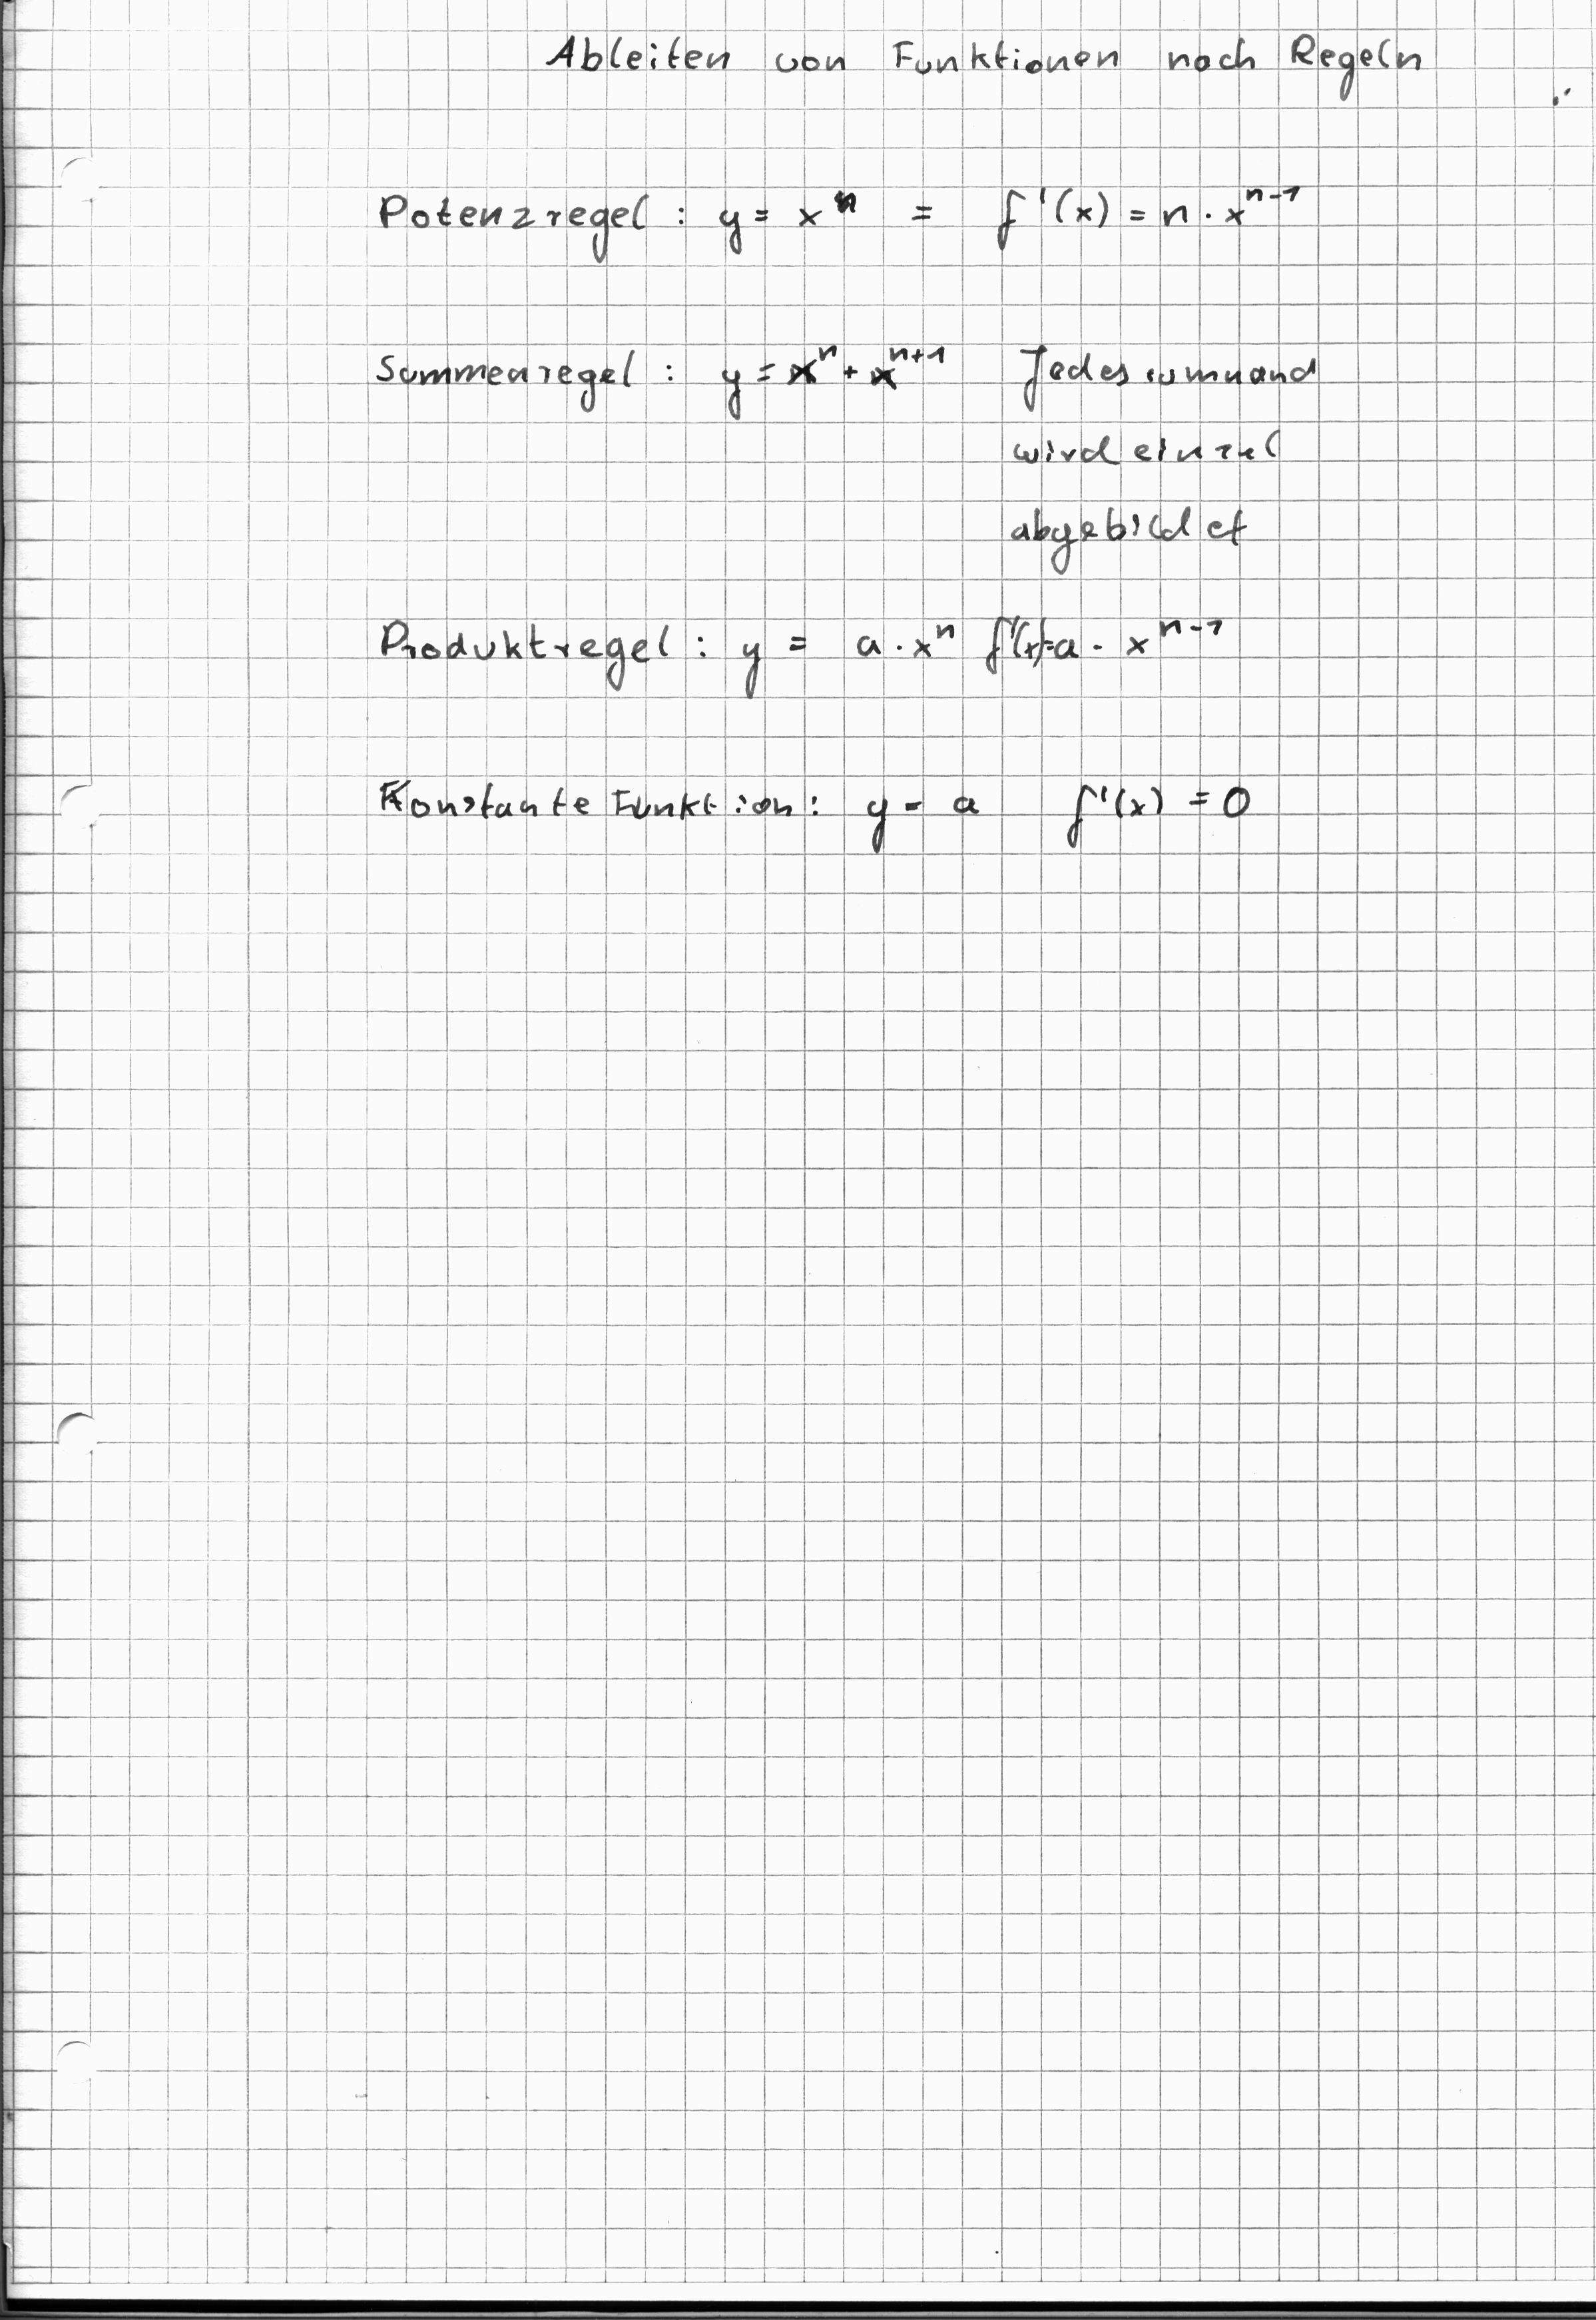word: (531, 6, 1433, 129), (361, 740, 1263, 862), (362, 591, 1248, 712), (365, 163, 1318, 271), (985, 329, 1332, 588), (358, 322, 684, 428), (706, 312, 959, 437)
